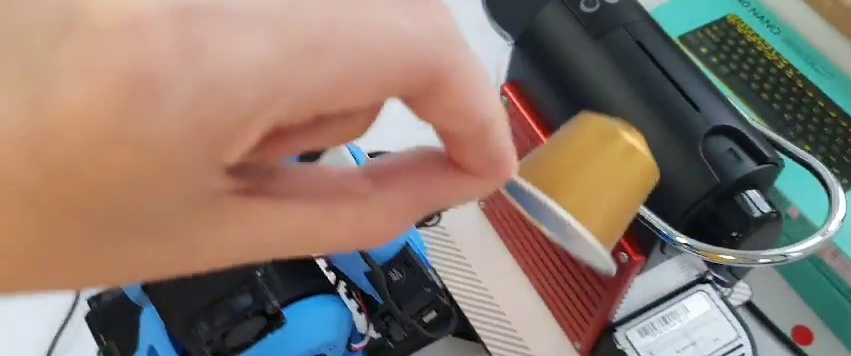capsule_8: (495, 105, 661, 285)
